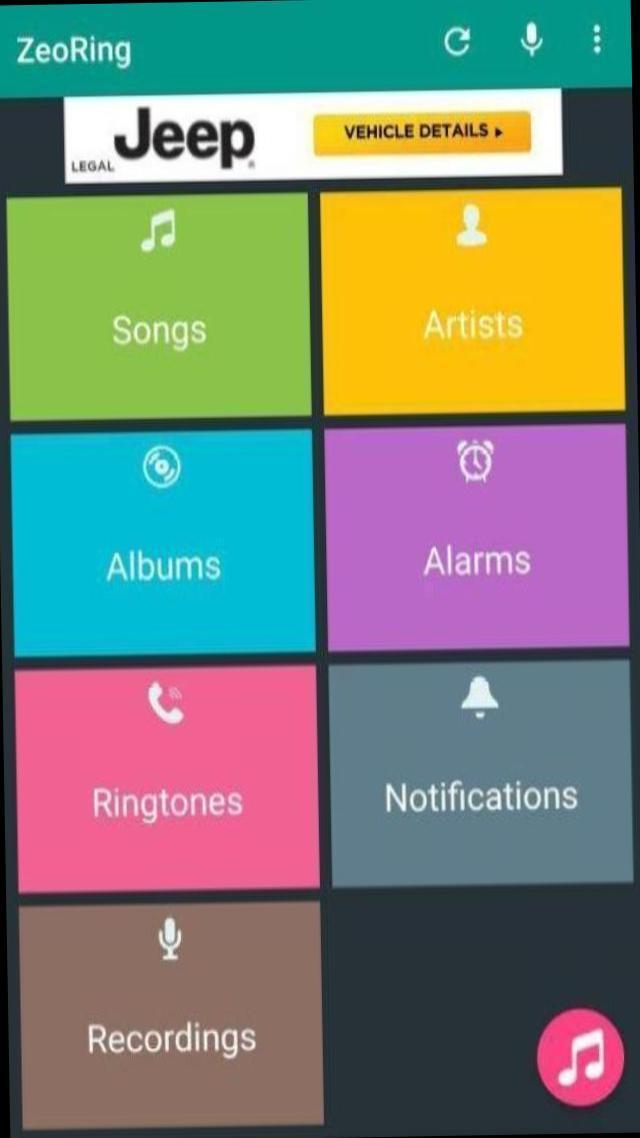Icon: (432, 21, 480, 62), (512, 18, 550, 64), (582, 18, 614, 61)
Image: (70, 100, 264, 172), (310, 108, 533, 157), (532, 1007, 632, 1109), (452, 671, 508, 728), (139, 676, 190, 730), (450, 435, 501, 487), (134, 443, 184, 492), (138, 209, 178, 257), (454, 204, 488, 255), (154, 914, 182, 962)
Text: (80, 1012, 263, 1070), (376, 781, 576, 824), (86, 781, 247, 831), (8, 28, 142, 76), (98, 545, 230, 591), (100, 308, 214, 358), (405, 540, 538, 580), (409, 302, 530, 344)
TextButton: (12, 663, 321, 905), (316, 183, 626, 419), (326, 892, 638, 1126), (5, 188, 316, 420), (10, 428, 316, 662), (322, 426, 628, 658), (18, 900, 322, 1129), (62, 87, 561, 186)
